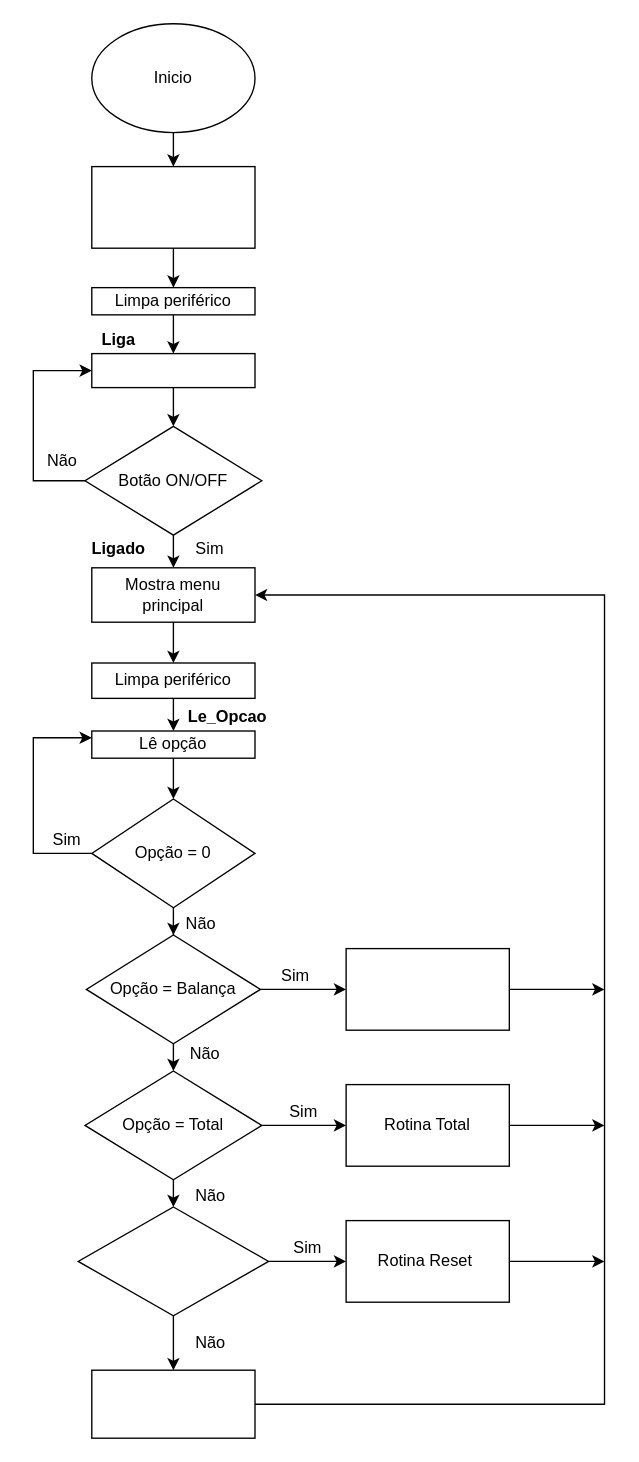
This 639x1462 diagram has some shape labels left out. Each missing label, with the box of its shape:
Lê botão ON_OFF: (90, 352, 255, 388)
Mostra mensagem de erro: (90, 1369, 255, 1438)
Mostra o Display desligado: (90, 165, 255, 248)
Opção = Reset: (77, 1206, 269, 1316)
Rotina Balança: (345, 947, 509, 1030)
